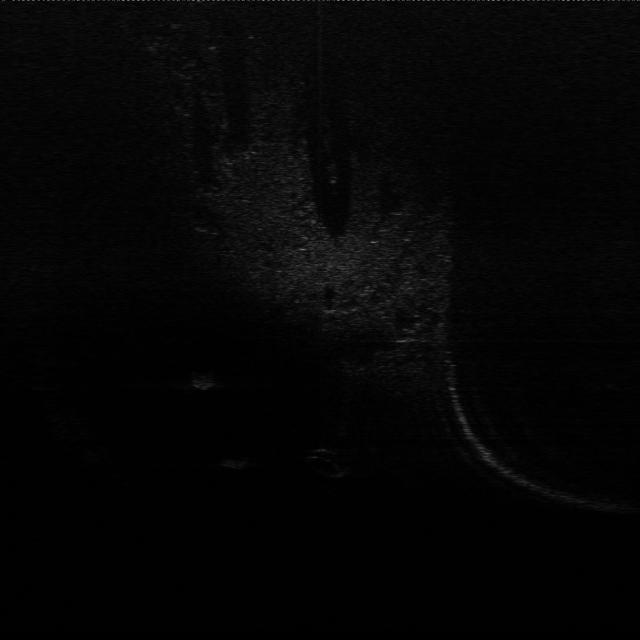cube: (223, 451, 252, 476)
square cage: (188, 369, 218, 395)
tyre: (303, 445, 356, 483)
